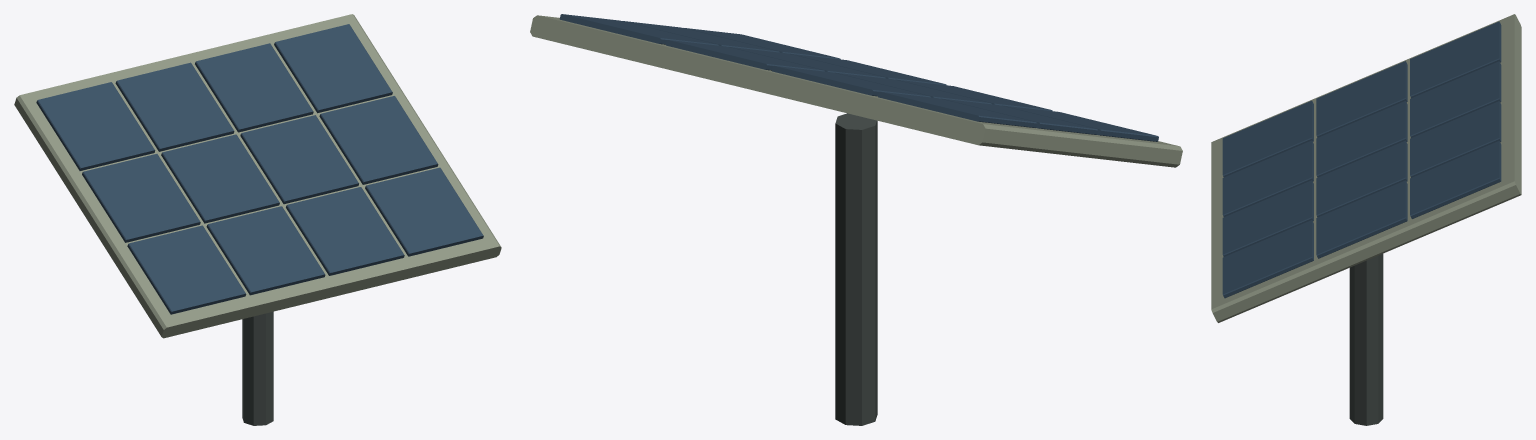
The model's file is PVSystem.gltf.
The picture shows the model from 3 angles, left to right: view 1: azimuth 30°, elevation 25°; view 2: azimuth 150°, elevation 25°; view 3: azimuth 270°, elevation 25°; orthographic projection. The views are drawn at different scales.
Parts seen in each view (by area): view 1: PVSystem; view 2: PVSystem; view 3: PVSystem.
Boxes of the visible parts, x1,y1,x2,y2 form: PVSystem: (14,14,501,425); PVSystem: (530,14,1182,425); PVSystem: (1211,14,1521,425).
Bounding box in the file's own units: 0.96 × 0.8472 × 0.742.
